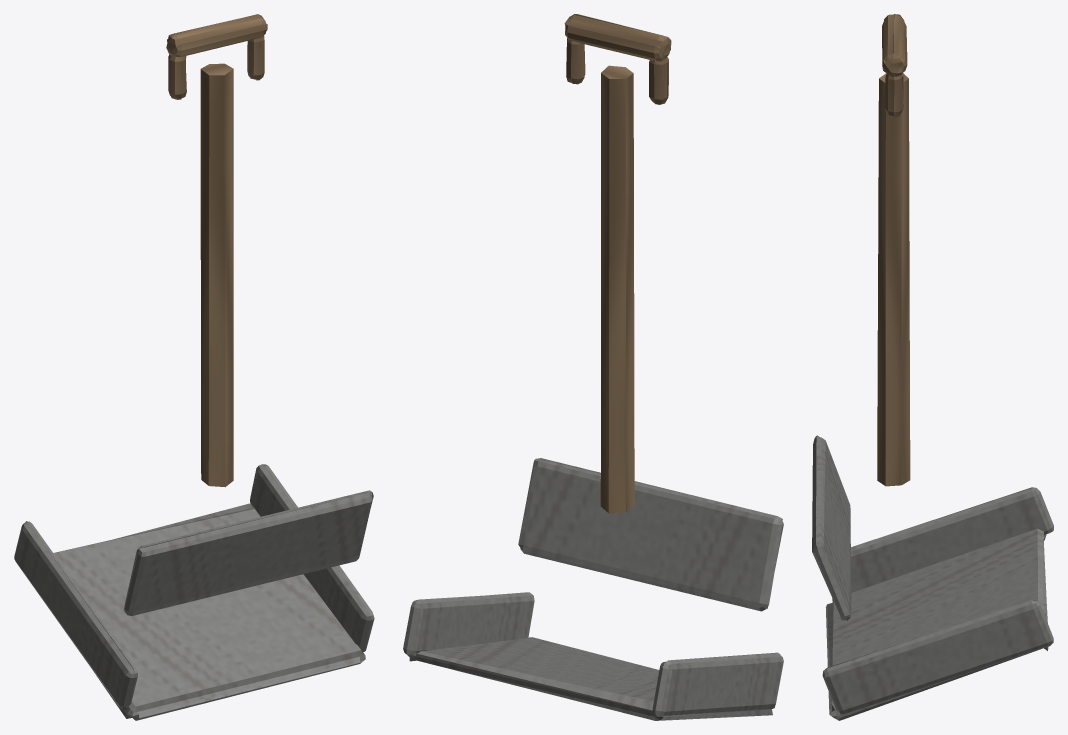
The model's file is wide_scoop.glb.
3 renders of one model, left to right at view 1: azimuth 30°, elevation 25°; view 2: azimuth 150°, elevation 25°; view 3: azimuth 270°, elevation 25°, orthographic. The views are drawn at different scales.
Visible parts, largest first — view 1: WideScoop; view 2: WideScoop; view 3: WideScoop.
Boxes of the visible parts, x1,y1,x2,y2 form: WideScoop: (14,14,374,720); WideScoop: (403,14,783,720); WideScoop: (812,14,1053,720).
Size of the model in its own units: 0.3157 by 0.7876 by 0.2725.
2 materials, 2 textured.
